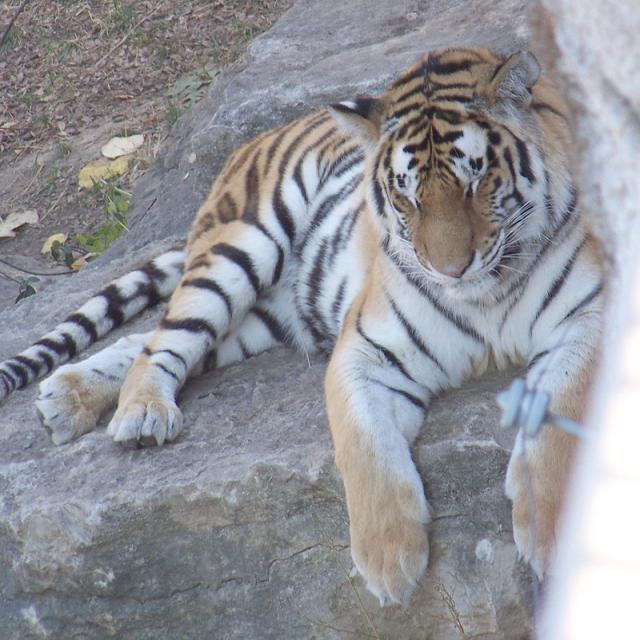Tiger: (0, 43, 621, 611)
